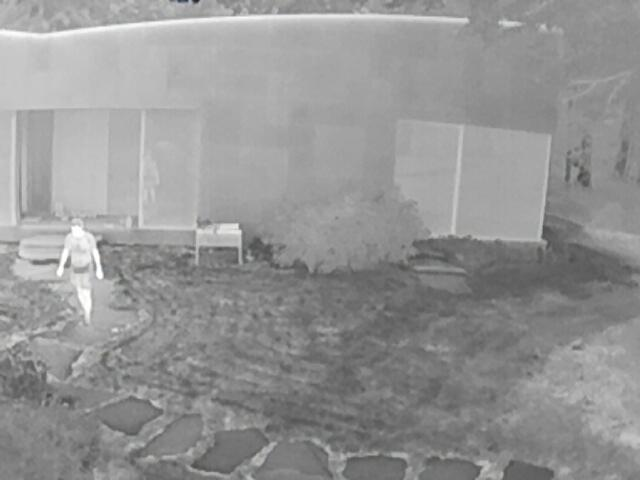person: (56, 219, 106, 326)
